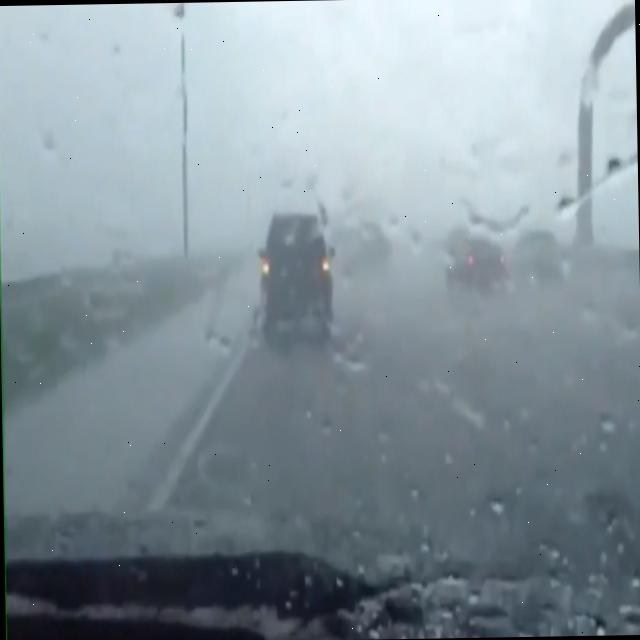car: (256, 192, 340, 347), (445, 230, 504, 289), (508, 228, 562, 290)
